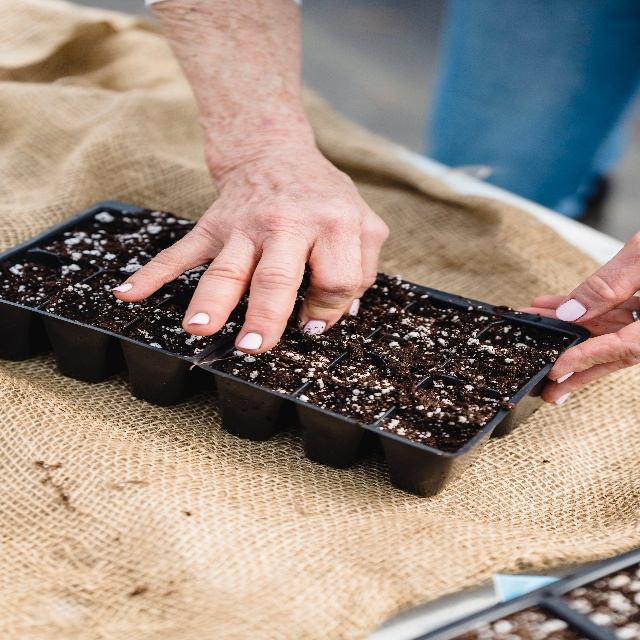Sin_guantes: (111, 138, 389, 354), (516, 230, 640, 404)
